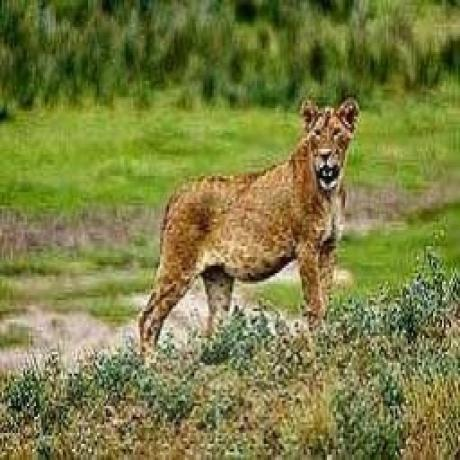Lion: (138, 94, 363, 340)
